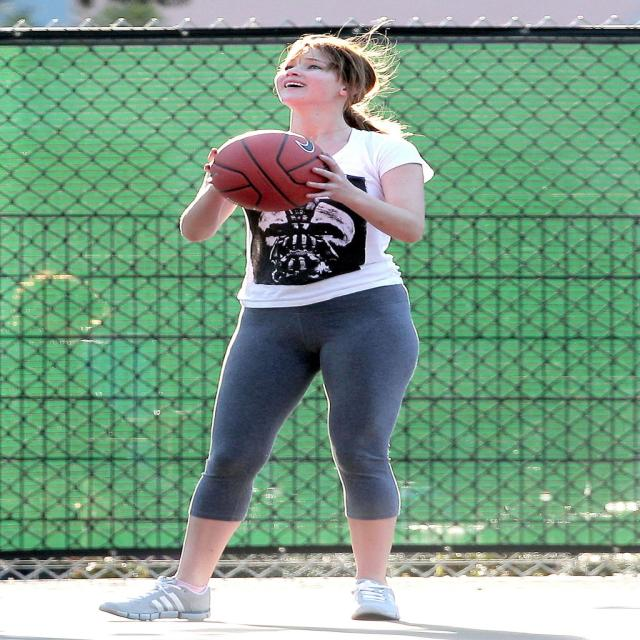Face: (277, 40, 336, 107)
